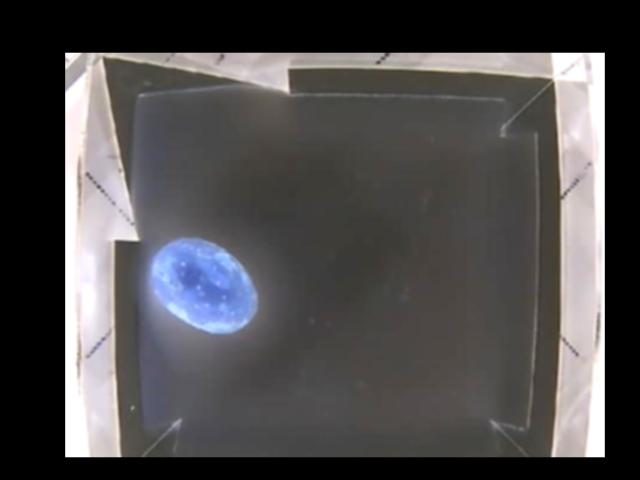Potato: (149, 238, 261, 336)
